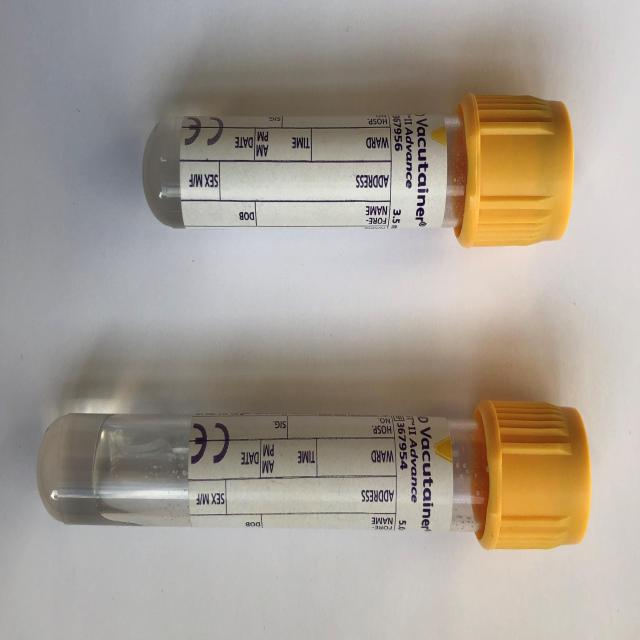B3: (19, 367, 604, 562), (128, 72, 580, 268)
